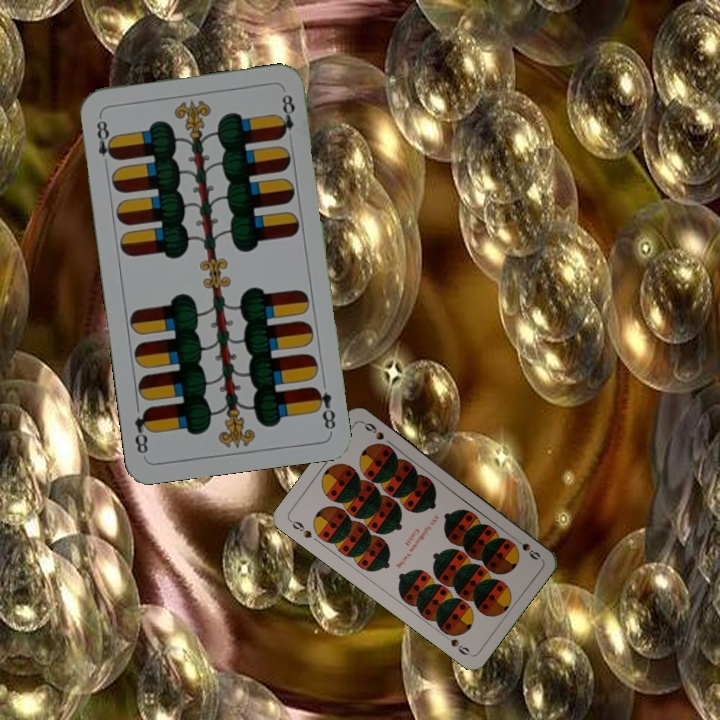E8: (309, 382, 338, 432), (93, 112, 119, 163)
S9: (286, 516, 314, 541), (516, 538, 543, 563)
